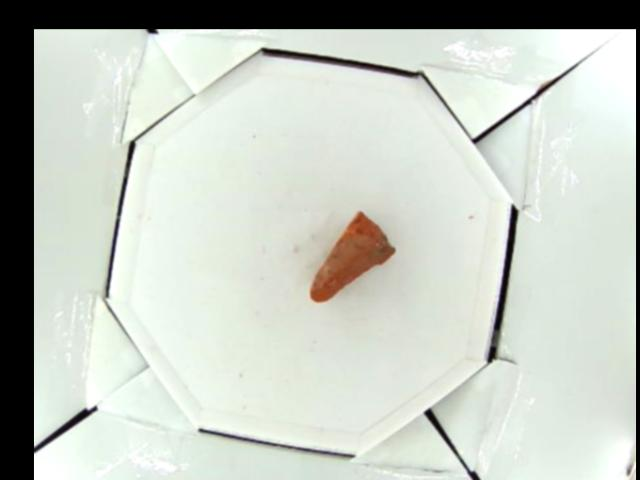Brisk: (309, 210, 396, 303)
